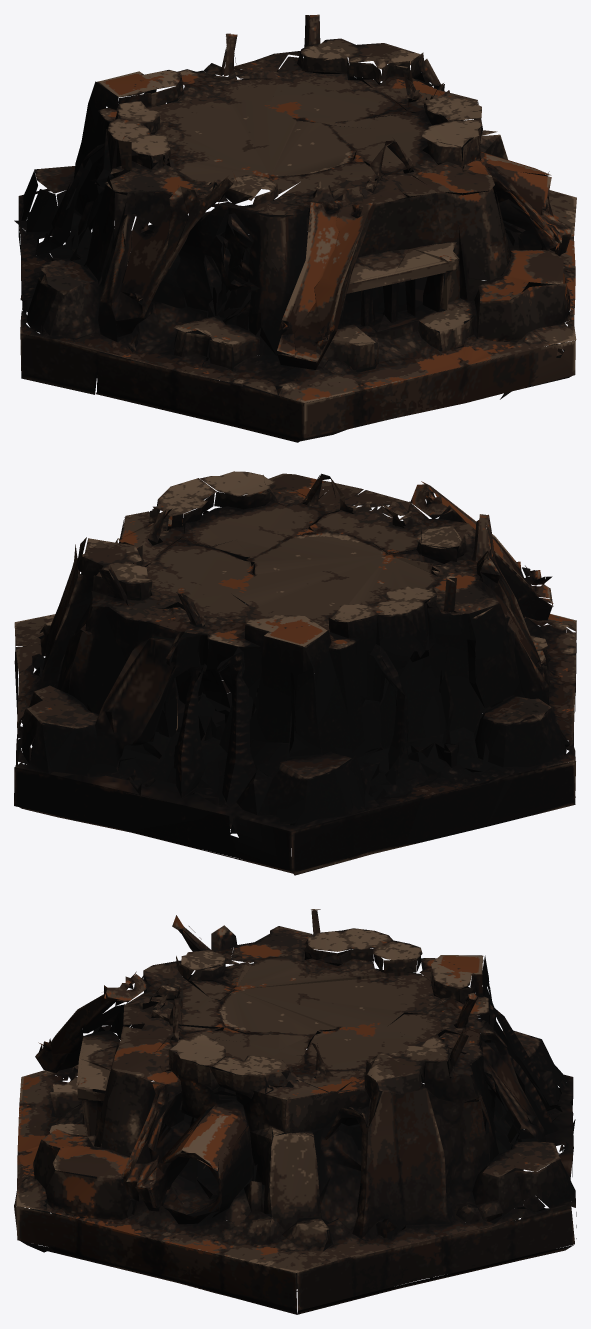
File: tr_ridge.glb
The picture shows the model from 3 angles, top to bottom: view 1: azimuth 30°, elevation 25°; view 2: azimuth 150°, elevation 25°; view 3: azimuth 270°, elevation 25°; orthographic projection. The views are drawn at different scales.
Parts seen in each view (by area): view 1: tr_ridge; view 2: tr_ridge; view 3: tr_ridge.
Boxes of the visible parts, x1=… form: tr_ridge: x1=14, y1=14, x2=576, y2=442; tr_ridge: x1=14, y1=471, x2=576, y2=875; tr_ridge: x1=14, y1=909, x2=576, y2=1314.
Size of the model in its own units: 1.5 by 0.5643 by 1.36.
1 material, 1 textured.
